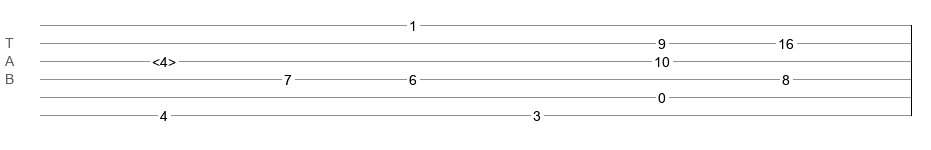0: (658, 90, 666, 100)
1: (409, 18, 417, 28)
10: (654, 54, 670, 64)
16: (778, 36, 794, 46)
3: (533, 108, 541, 118)
4: (160, 108, 168, 118)
6: (409, 72, 417, 82)
7: (284, 72, 292, 82)
8: (782, 72, 790, 82)
9: (658, 36, 666, 46)
harmonic: (152, 54, 176, 64)
